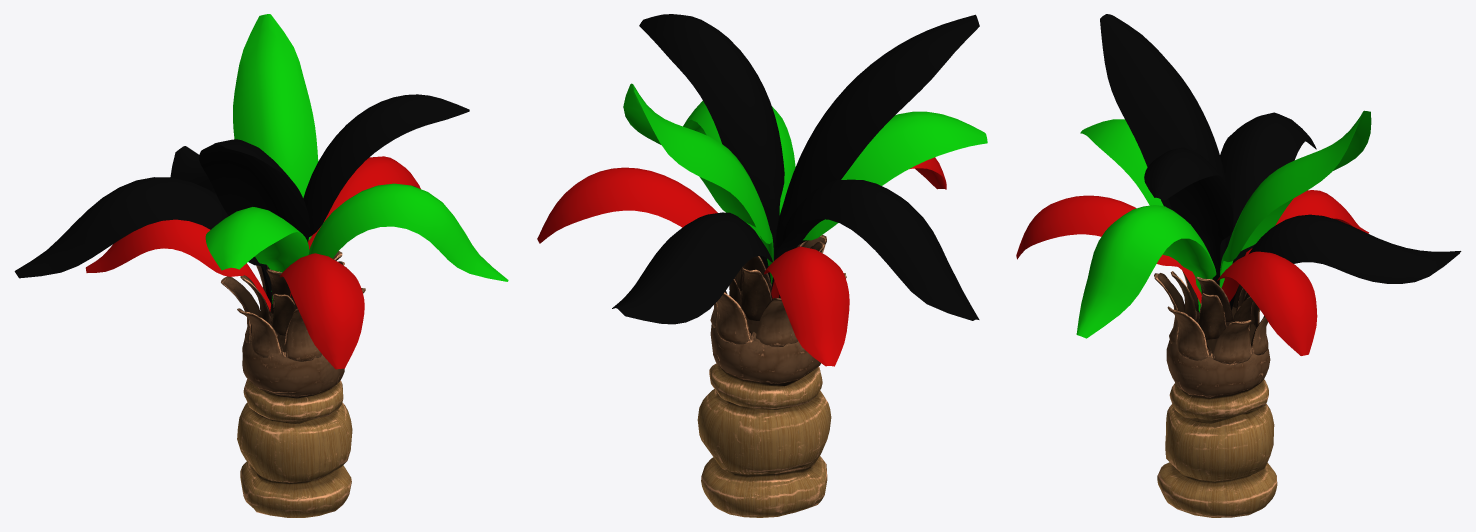
File: Coconut_Tree_01.fbx
The picture shows the model from 3 angles, left to right: view 1: azimuth 30°, elevation 25°; view 2: azimuth 150°, elevation 25°; view 3: azimuth 270°, elevation 25°; orthographic projection. The views are drawn at different scales.
Visible parts, largest first — view 1: Coconut_Leafs_01_LOD0, Coconut_Trunk_01_LOD0; view 2: Coconut_Leafs_01_LOD0, Coconut_Trunk_01_LOD0; view 3: Coconut_Leafs_01_LOD0, Coconut_Trunk_01_LOD0.
Part boxes in pixels (x1,y1,x2,y2): Coconut_Leafs_01_LOD0: (14,14,508,369); Coconut_Trunk_01_LOD0: (221,251,365,517); Coconut_Leafs_01_LOD0: (537,14,987,366); Coconut_Trunk_01_LOD0: (697,235,846,517); Coconut_Leafs_01_LOD0: (1016,14,1461,355); Coconut_Trunk_01_LOD0: (1154,270,1277,517).
Size of what is drawn, in the model's own units: 2.8 by 2.89 by 2.75.
